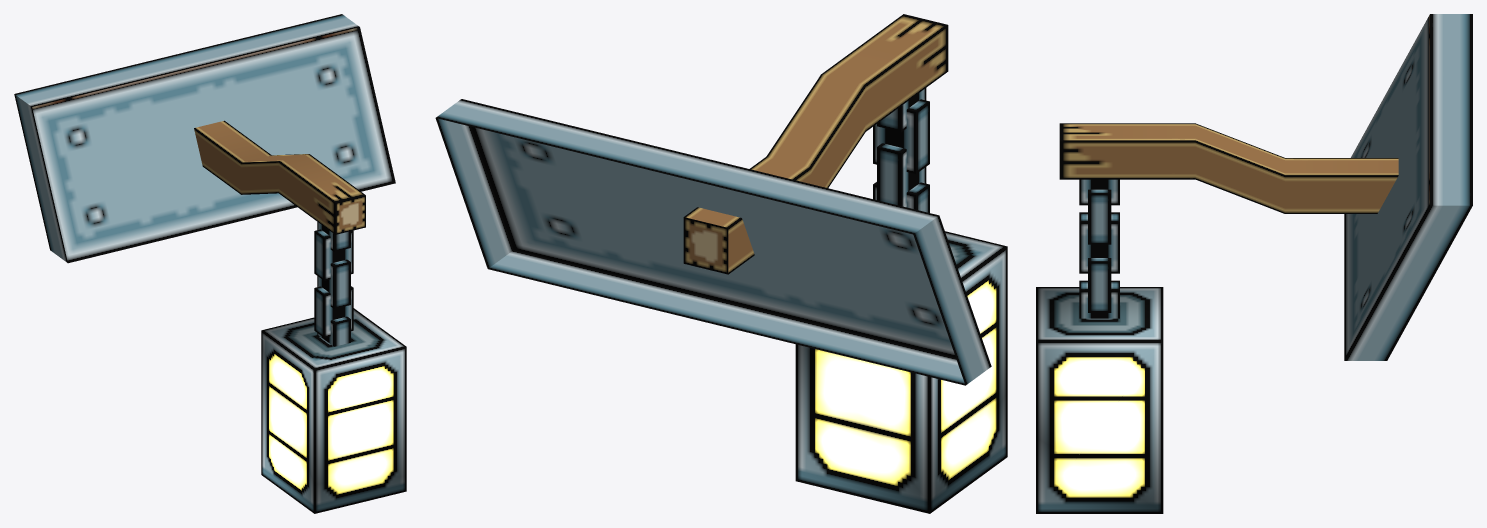
The model's file is deco_lampWall.FBX.
3 views of the same model, side by side, from view 1: azimuth 30°, elevation 25°; view 2: azimuth 150°, elevation 25°; view 3: azimuth 270°, elevation 25° (orthographic). The views are drawn at different scales.
Parts seen in each view (by area): view 1: deco_lampWall; view 2: deco_lampWall; view 3: deco_lampWall.
Part boxes in pixels (box(x1,y1,x2,y2)): deco_lampWall: box(14, 14, 406, 513); deco_lampWall: box(435, 14, 1007, 513); deco_lampWall: box(1036, 14, 1472, 513).
Bounding box in the file's own units: 2 × 1.84 × 1.93.
1 material, 1 textured.
